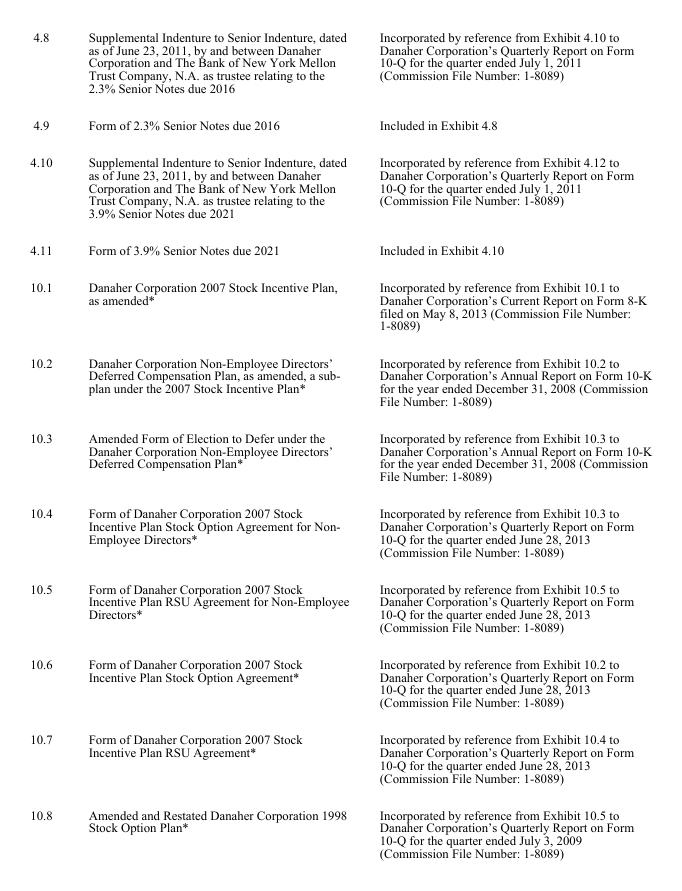table: (29, 29, 651, 859)
table column: (69, 29, 363, 859), (363, 29, 651, 859), (29, 29, 69, 859)
table column header: (29, 29, 651, 106)
table row: (29, 143, 651, 231), (29, 29, 651, 106), (29, 343, 651, 419), (29, 569, 651, 645), (29, 268, 651, 343), (29, 419, 651, 494), (29, 494, 651, 569), (29, 645, 651, 720), (29, 720, 651, 795), (29, 795, 651, 859), (29, 106, 651, 143), (29, 231, 651, 268)
